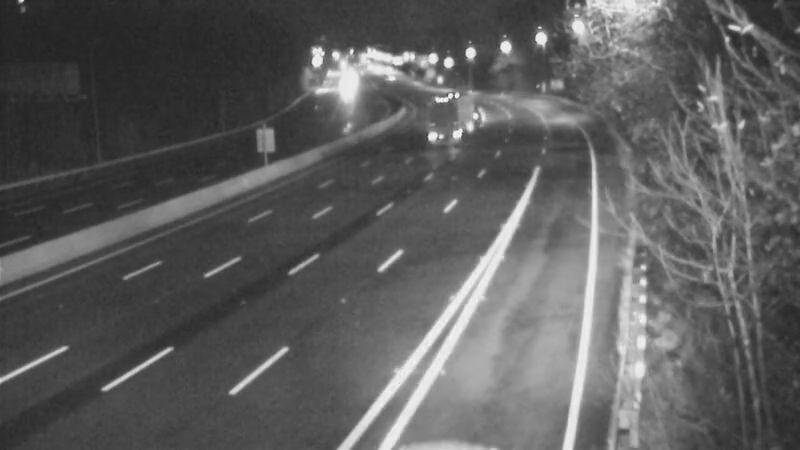vehicle: (415, 79, 465, 129)
